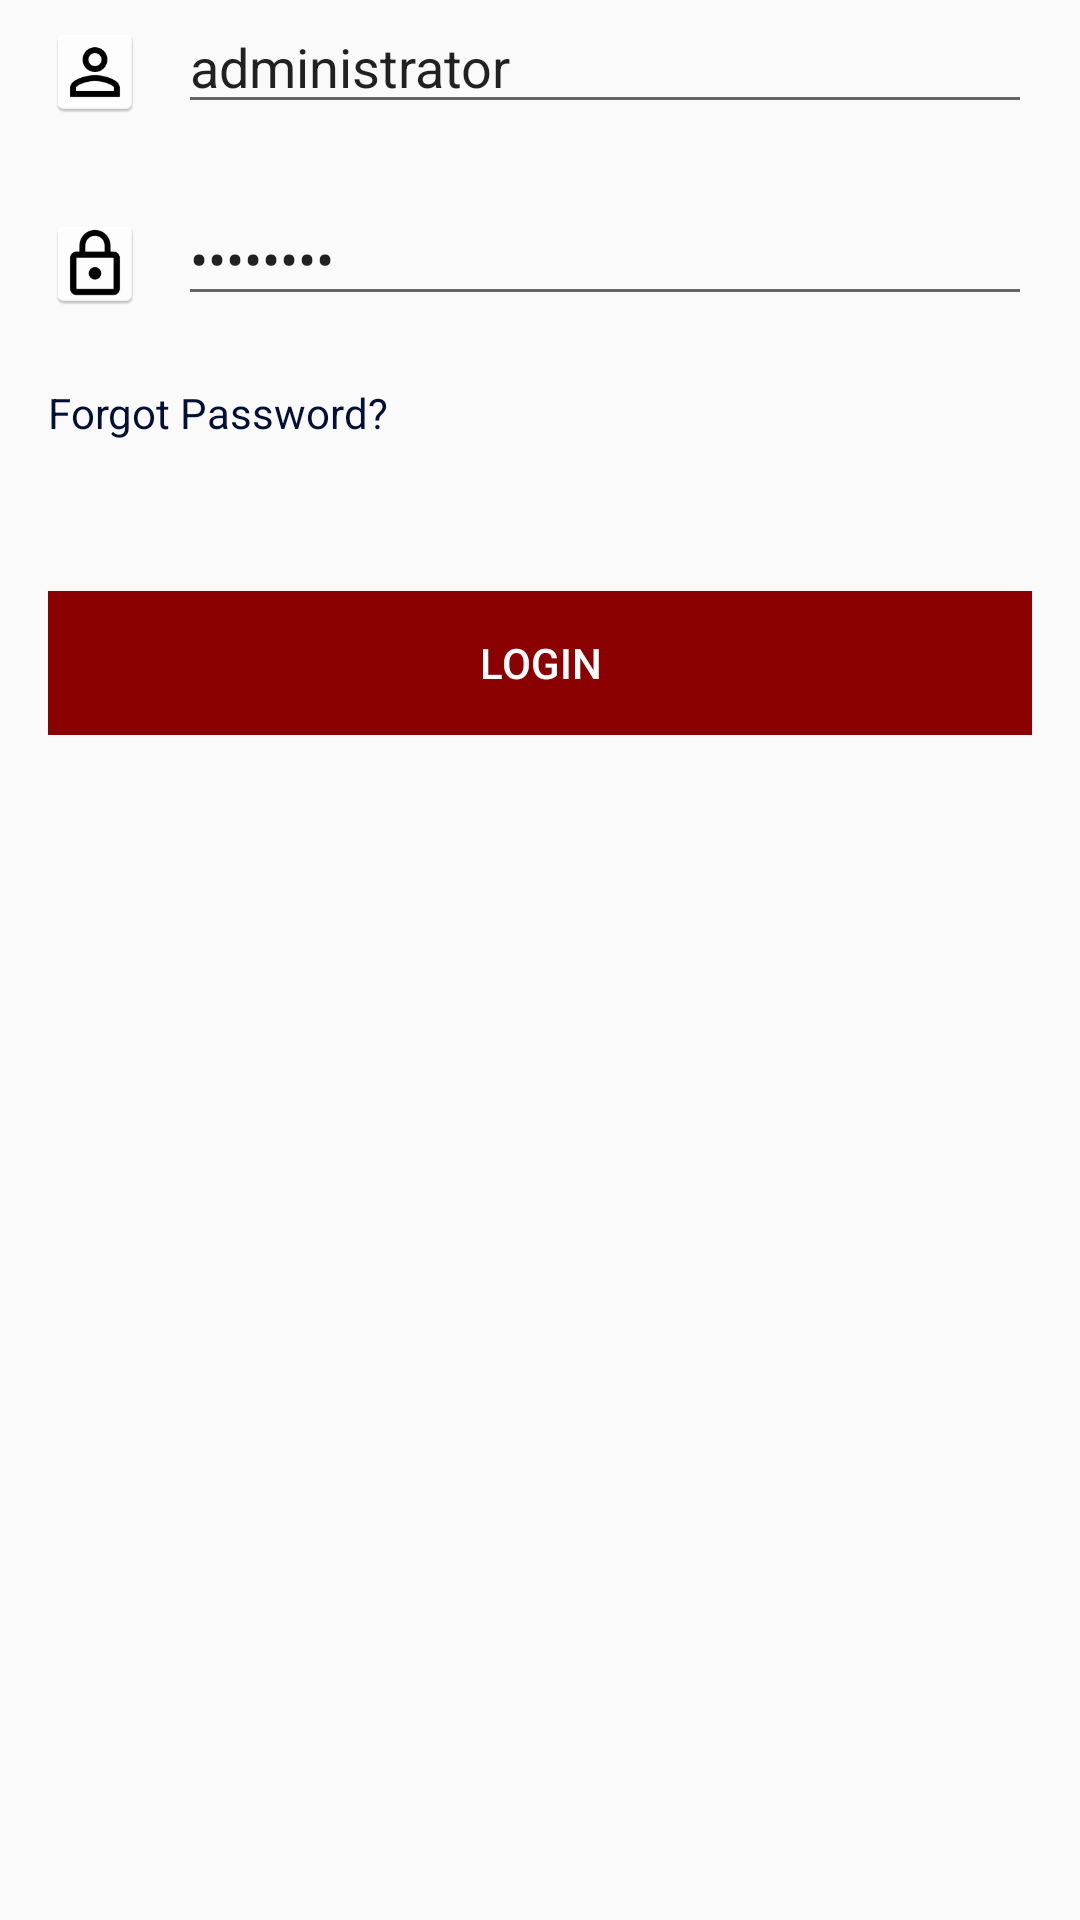

Icon bounding boxes for this 1080 × 1920 phone screenshot, format bbox=(x1, y1, x2, y2):
user id: bbox=(58, 42, 133, 112)
